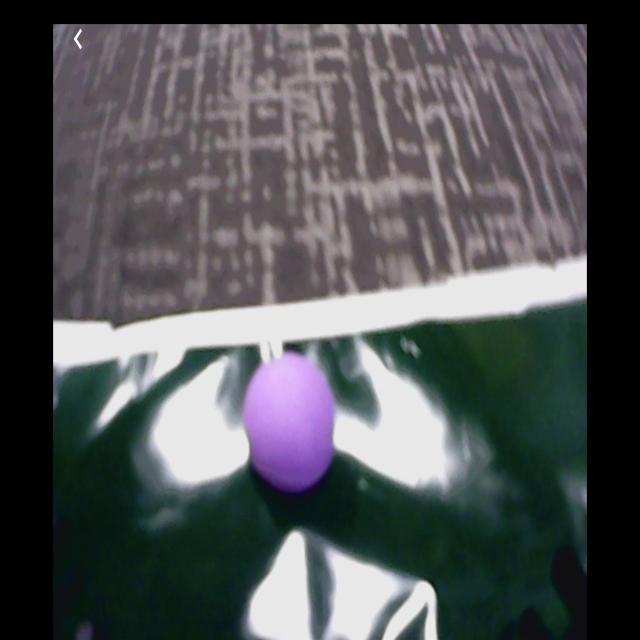ball: (246, 355, 338, 495)
